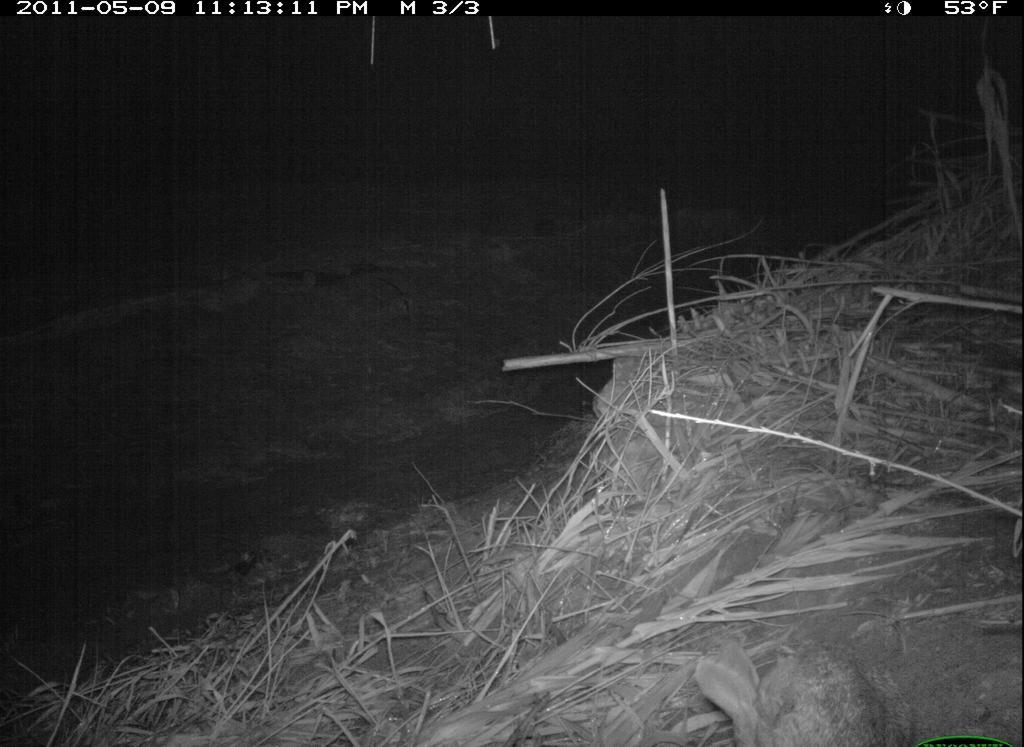rabbit: (681, 616, 934, 745)
